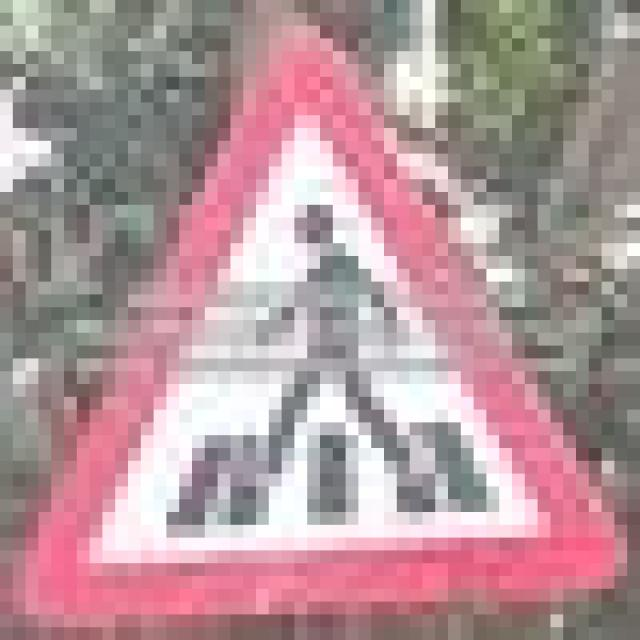PEDESTRIAN_CROSSING: (0, 0, 614, 589)
